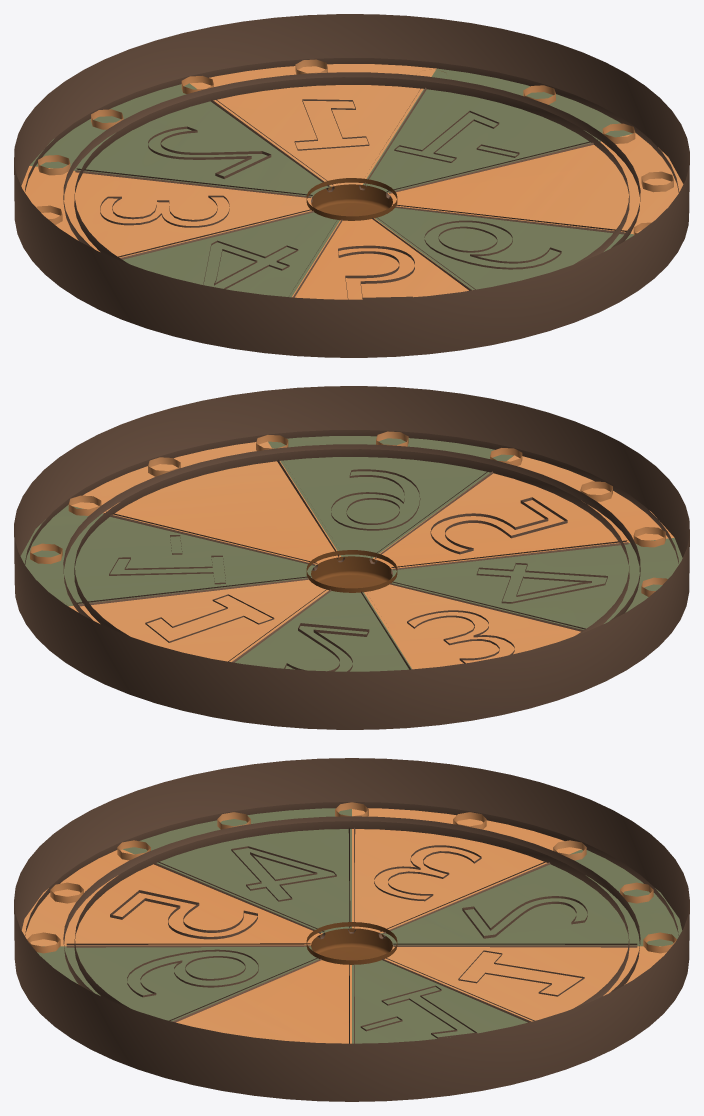
Rendered from roullet.glb.
3 views of the same model, one above another, from view 1: azimuth 30°, elevation 25°; view 2: azimuth 150°, elevation 25°; view 3: azimuth 270°, elevation 25° (orthographic).
Parts seen in each view (by area): view 1: typeMesh7; view 2: typeMesh7; view 3: typeMesh7.
Part boxes in pixels (x1,y1,x2,y2): typeMesh7: (14, 14, 689, 357); typeMesh7: (14, 386, 689, 729); typeMesh7: (14, 758, 689, 1101).
Bounding box in the file's own units: 4.88 × 0.5107 × 4.88.
Materials: 1 (1 with a texture image).
